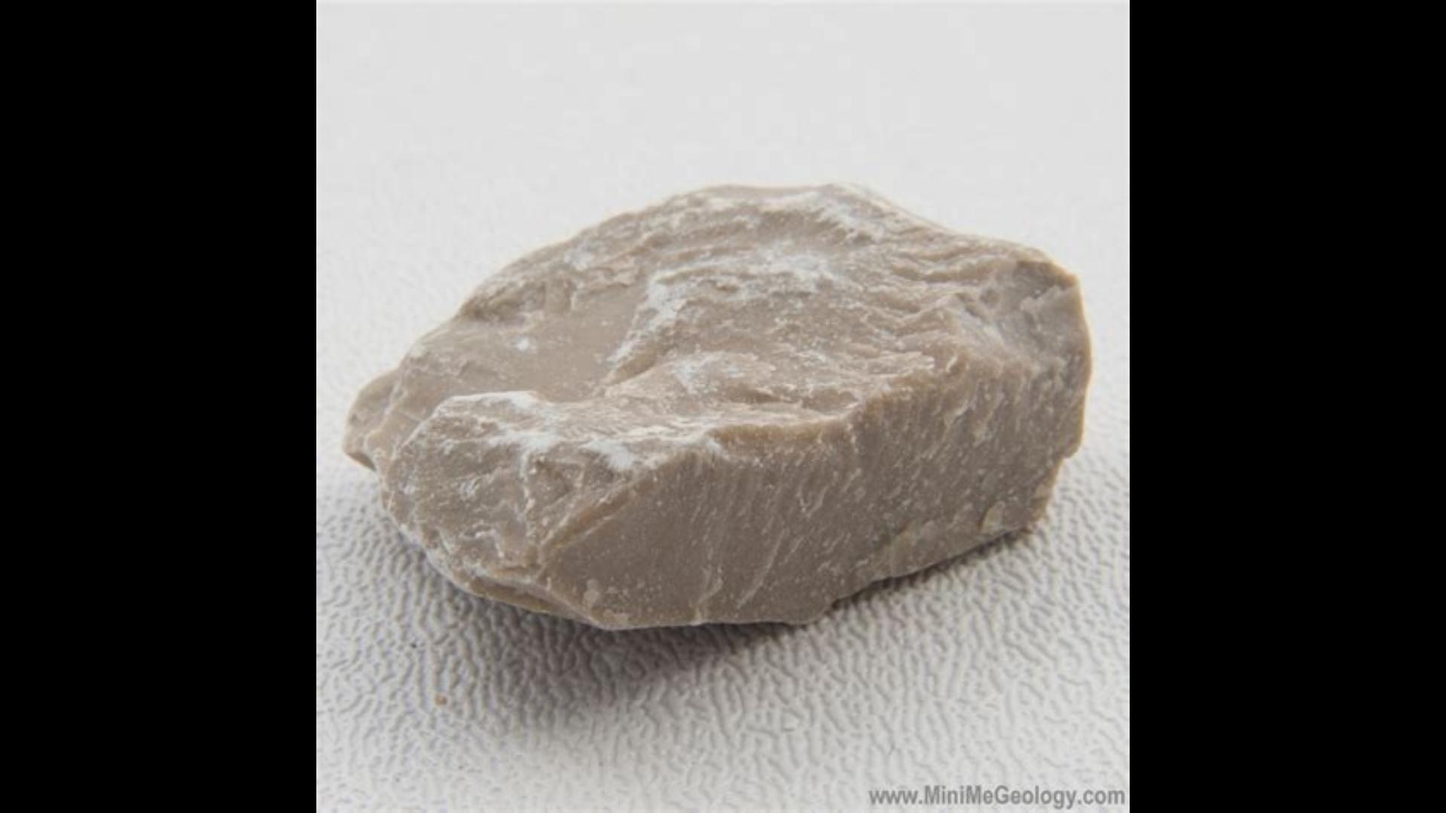rock: (345, 187, 1087, 626)
